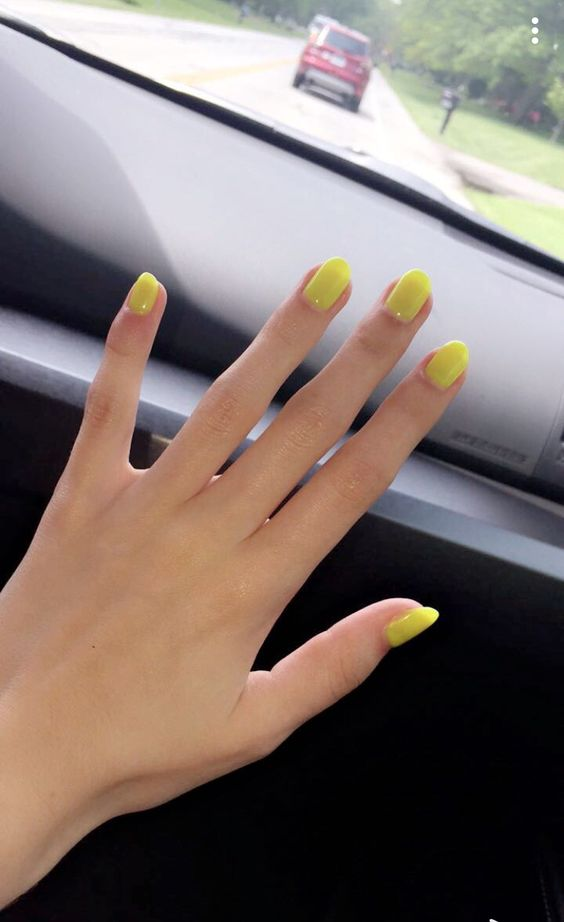nails: (378, 260, 440, 336), (291, 245, 358, 315), (104, 266, 179, 327), (414, 330, 481, 397), (377, 593, 448, 652)
